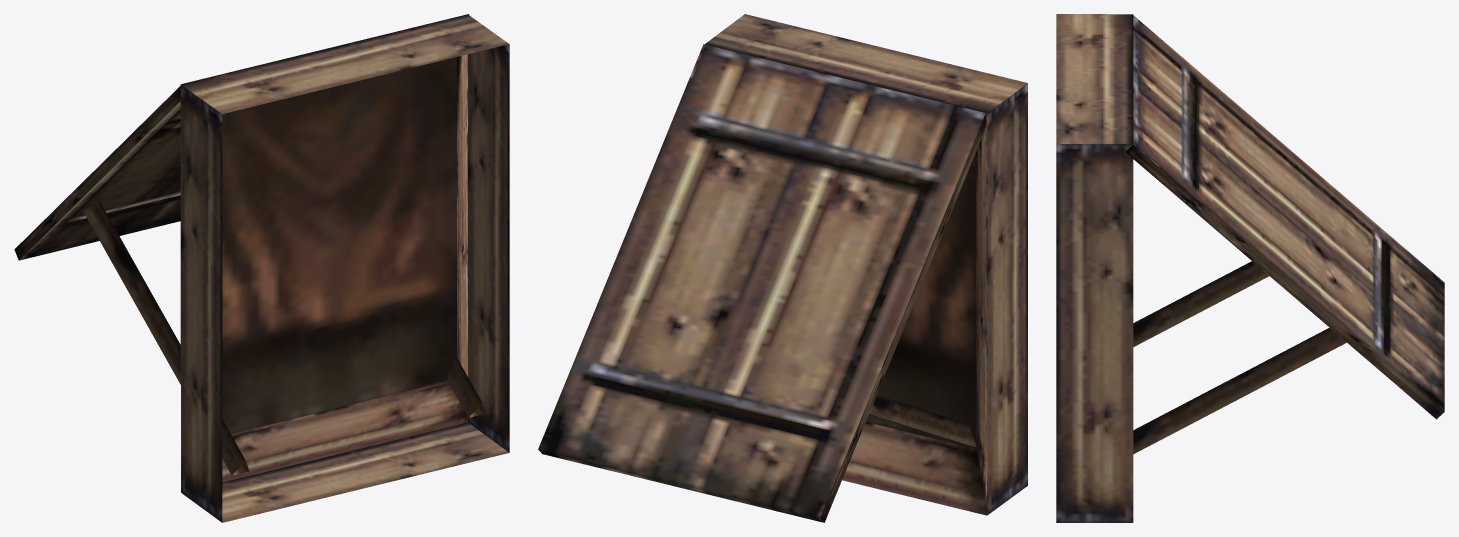
Rendered from loc2_24.glb.
3 renders of one model, left to right at view 1: azimuth 30°, elevation 25°; view 2: azimuth 150°, elevation 25°; view 3: azimuth 270°, elevation 25°, orthographic. The views are drawn at different scales.
Visible parts, largest first — view 1: loc2_24-col; view 2: loc2_24-col; view 3: loc2_24-col.
Part boxes in pixels (bbox=[...]): loc2_24-col: bbox=[14, 14, 509, 522]; loc2_24-col: bbox=[538, 14, 1027, 522]; loc2_24-col: bbox=[1056, 14, 1444, 522].
Size of the model in its own units: 1.14 by 1.55 by 1.44.
1 material, 1 textured.
